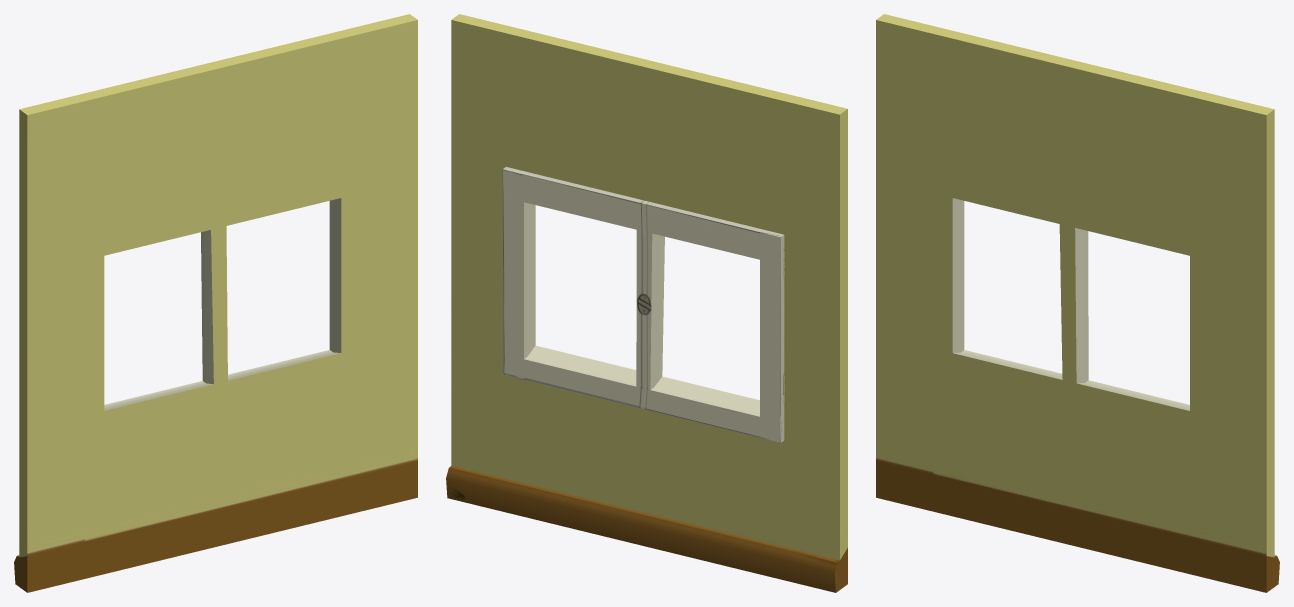
Rendered from Wall_Win_1.fbx.
The picture shows the model from 3 angles, left to right: view 1: azimuth 30°, elevation 25°; view 2: azimuth 150°, elevation 25°; view 3: azimuth 330°, elevation 25°; orthographic projection.
Parts seen in each view (by area): view 1: Wall_yellow; view 2: Wall_yellow; view 3: Wall_yellow.
Boxes of the visible parts, bbox=[...] form: Wall_yellow: bbox=[14, 14, 417, 592]; Wall_yellow: bbox=[446, 14, 847, 592]; Wall_yellow: bbox=[876, 14, 1279, 592].
Bounding box in the file's own units: 275 × 321 × 16.34.
Materials: 1 (1 with a texture image).
